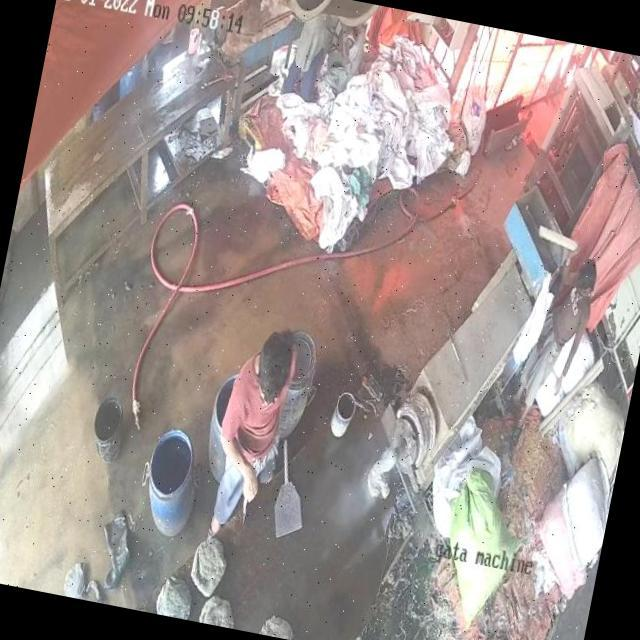person: (200, 313, 318, 539), (513, 258, 600, 426)
